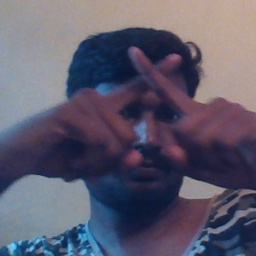X: (94, 42, 217, 161)
